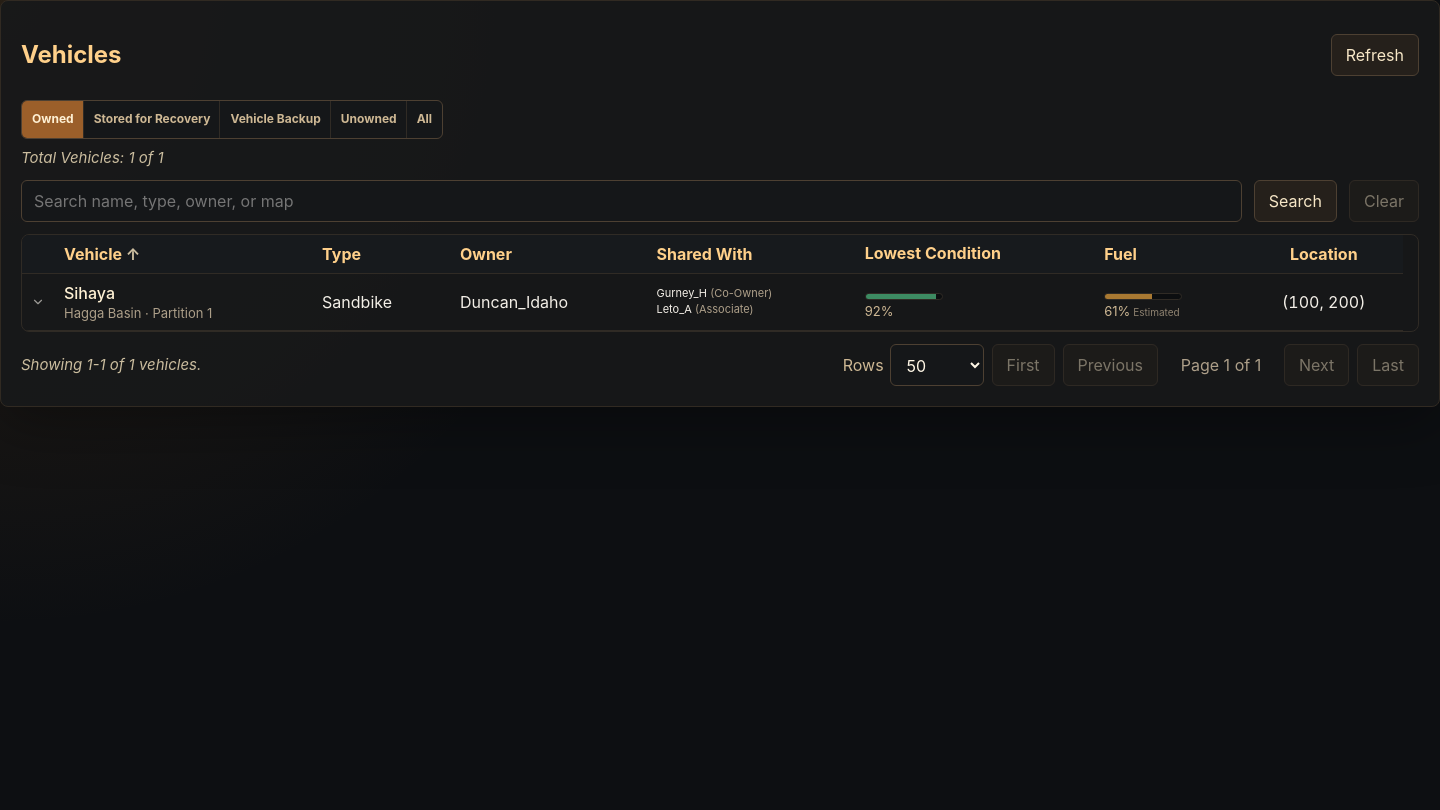
VehiclesPanel › View Contents › opens the contents overlay without collapsing the expanded row
Step 1. Click the button named "Show components for Sihaya" → (38, 302), box [26, 290, 50, 314]
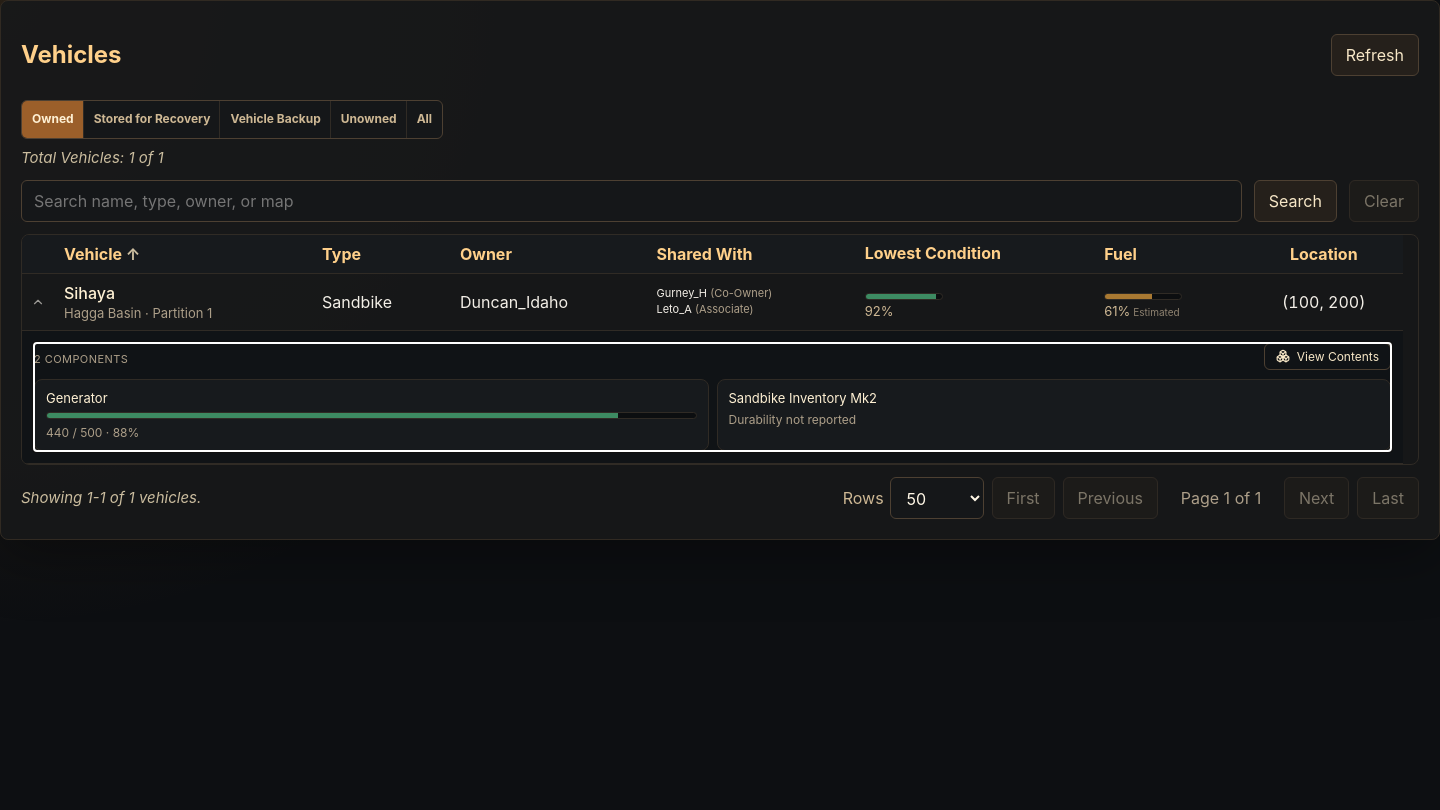
Expected: the text "2 components" is shown, [34, 352, 128, 366]
Step 2. Click the button "View Contents" → (1327, 356), box [1264, 343, 1391, 370]
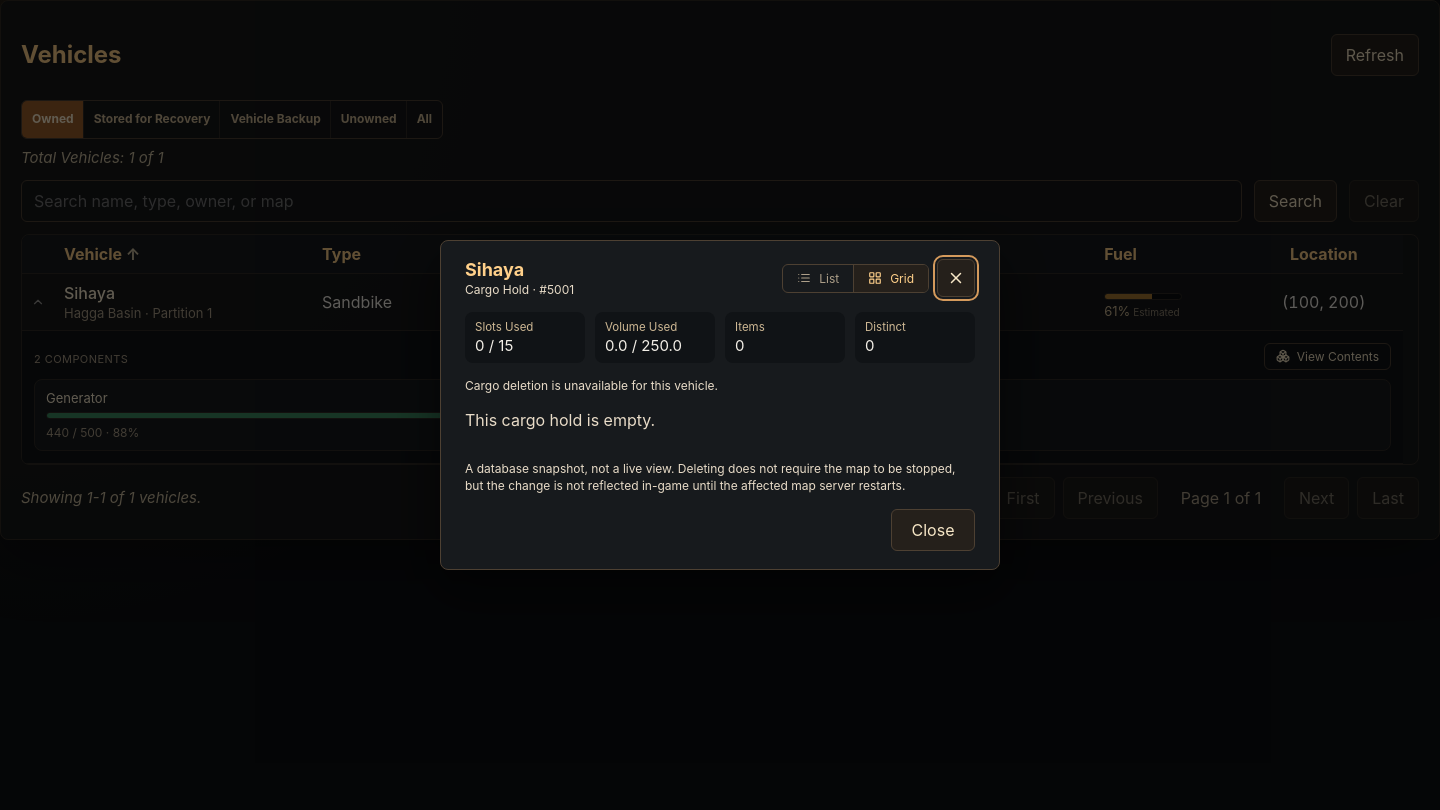
Expected: the text "2 components" is shown, [34, 352, 128, 366]
Expected: the dialog is shown, [440, 240, 1000, 570]
